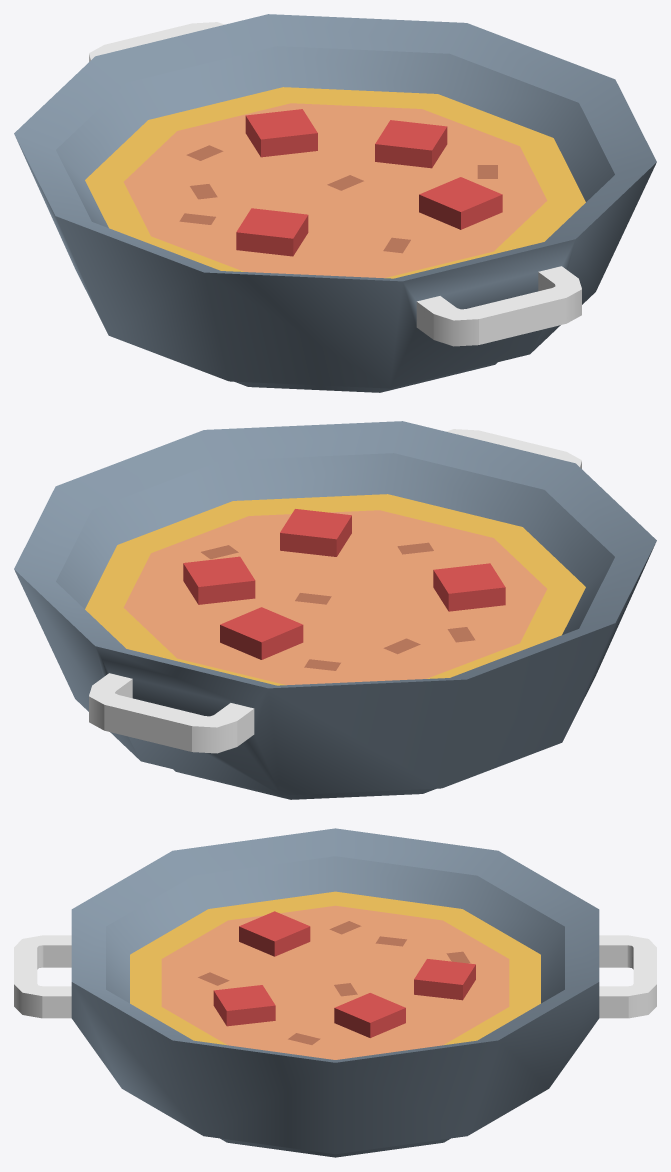
The model's file is panStew.dae.
3 renders of one model, top to bottom at view 1: azimuth 30°, elevation 25°; view 2: azimuth 150°, elevation 25°; view 3: azimuth 270°, elevation 25°, orthographic. The views are drawn at different scales.
Parts seen in each view (by area): view 1: panStew; view 2: panStew; view 3: panStew.
Part boxes in pixels (box(x1,y1,x2,y2)): panStew: box(14, 14, 656, 392); panStew: box(14, 421, 656, 799); panStew: box(14, 828, 656, 1157).
Bounding box in the file's own units: 0.6575 × 0.1753 × 0.7621.
